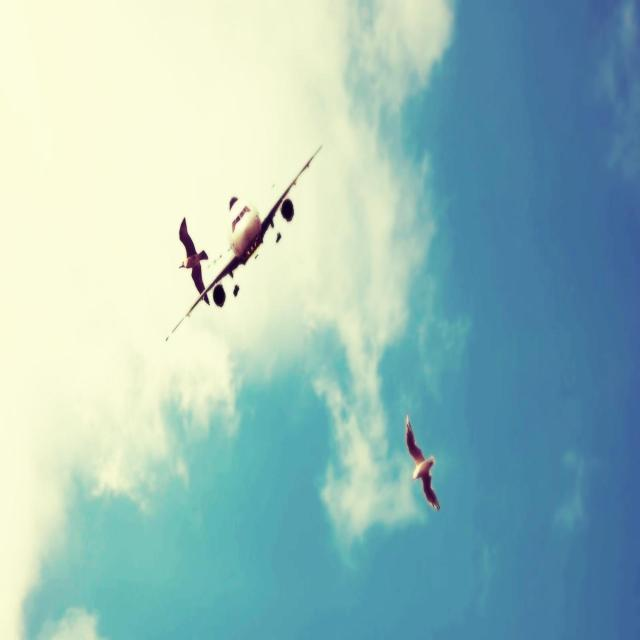airplane: (165, 143, 322, 341)
